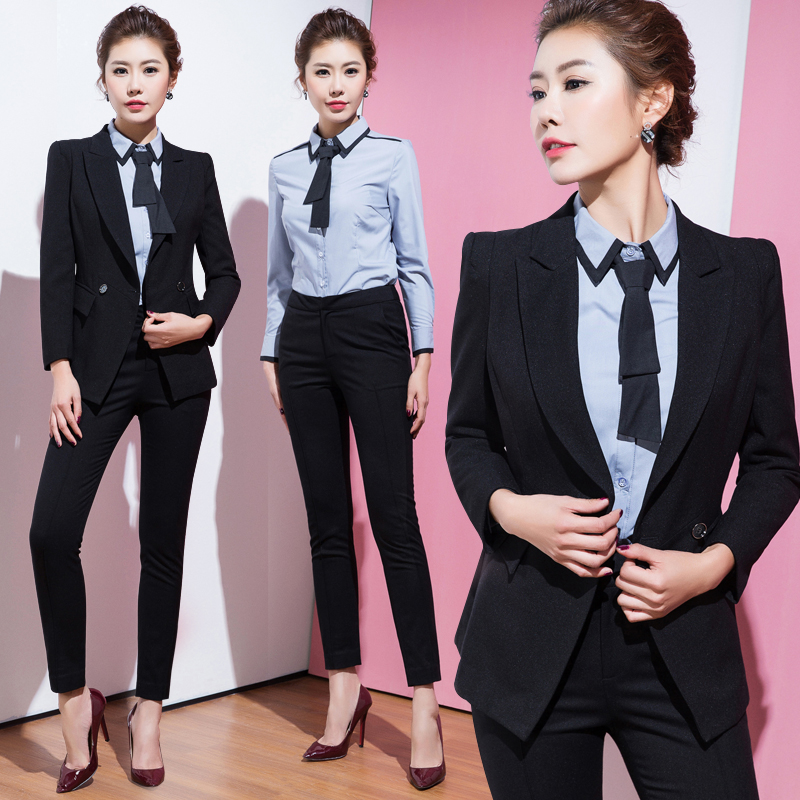F_W_suit jacket: (450, 198, 800, 740), (30, 122, 242, 396)
F_shirt: (253, 117, 437, 360)
F_tie: (611, 257, 671, 445), (130, 146, 174, 239), (304, 146, 338, 228)
S_W_pants: (274, 290, 451, 691), (25, 354, 222, 707)
